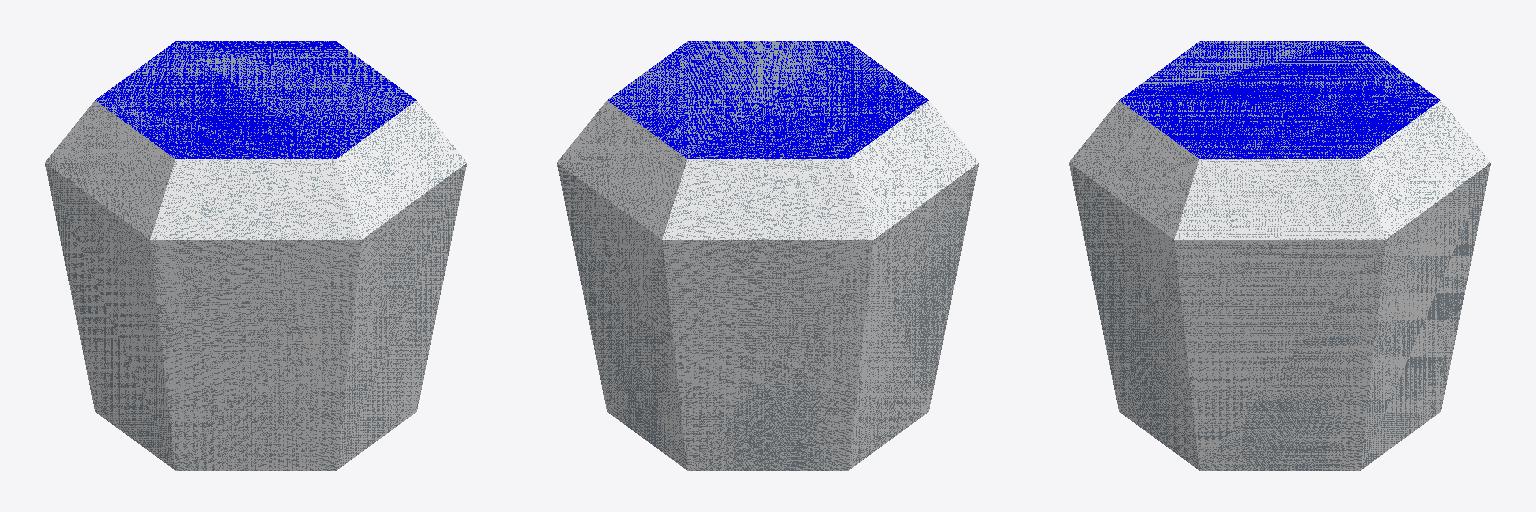
Rendered from Sink_Handle_Cold.obj.
3 views of the same model, side by side, from view 1: azimuth 30°, elevation 25°; view 2: azimuth 150°, elevation 25°; view 3: azimuth 270°, elevation 25° (orthographic).
Parts seen in each view (by area): view 1: Mesh1 Model; view 2: Mesh1 Model; view 3: Mesh1 Model.
Boxes of the visible parts, box(x1,y1,x2,y2) form: Mesh1 Model: box(45, 41, 466, 470); Mesh1 Model: box(557, 41, 978, 470); Mesh1 Model: box(1069, 41, 1490, 470).
Size of the model in its own units: 0.0532 by 0.05 by 0.0615.